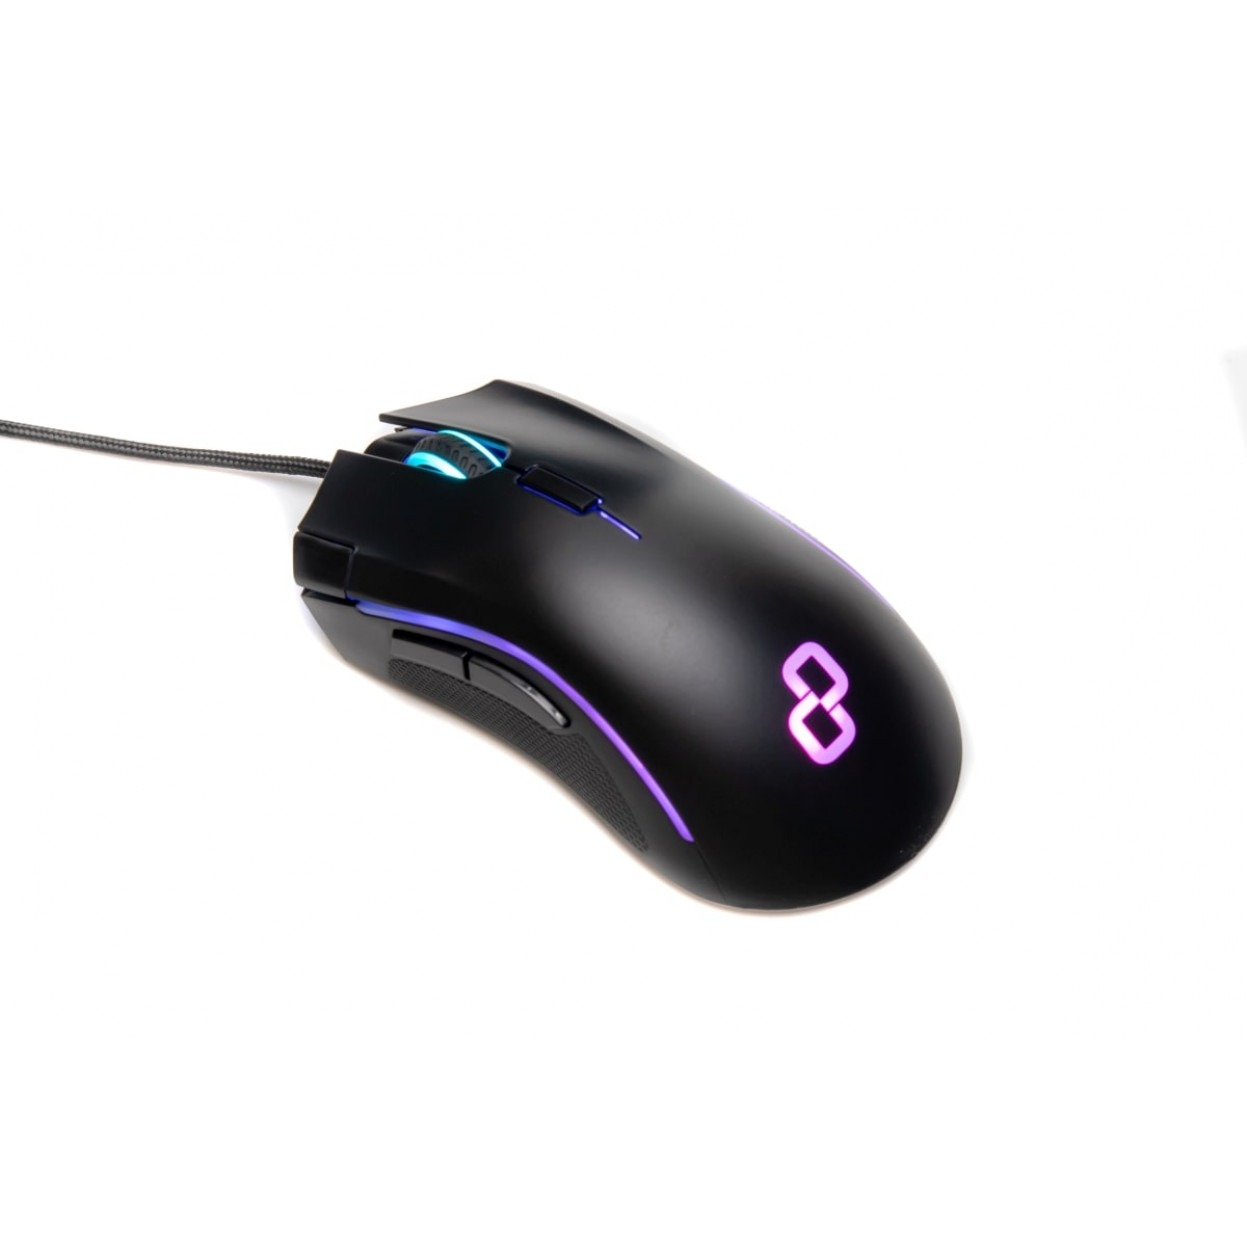mouse: (290, 364, 1037, 957)
